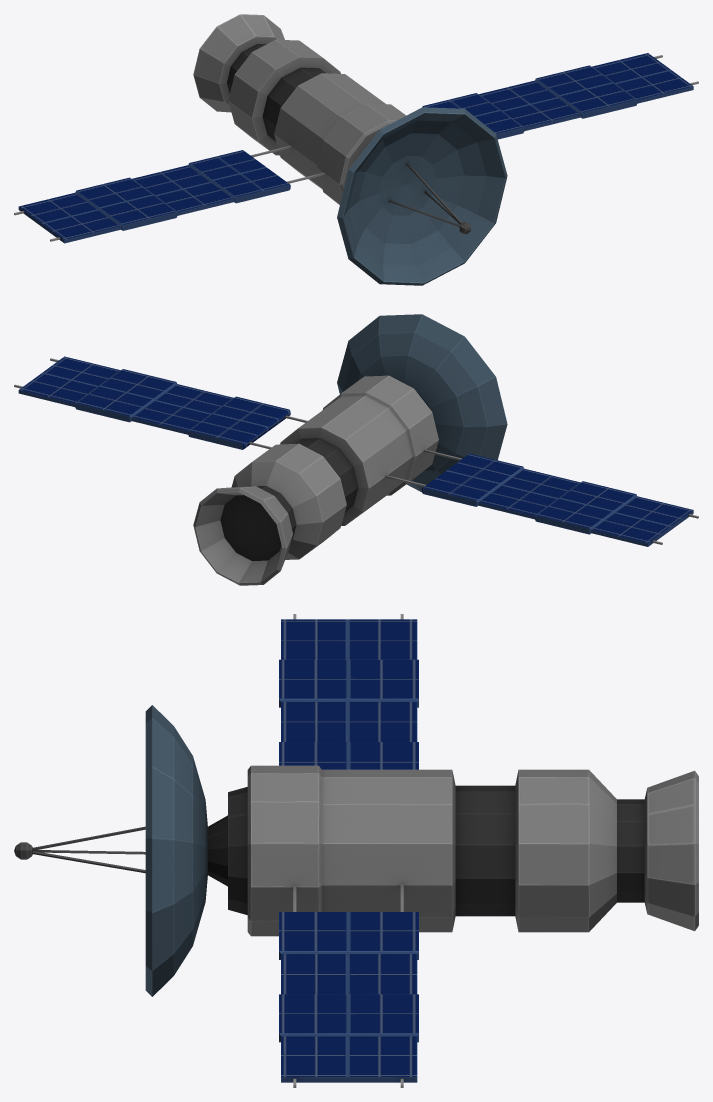
The model's file is satellite.glb.
3 views of the same model, one above another, from view 1: azimuth 30°, elevation 25°; view 2: azimuth 150°, elevation 25°; view 3: azimuth 270°, elevation 25° (orthographic). The views are drawn at different scales.
Visible parts, largest first — view 1: Object_2; view 2: Object_2; view 3: Object_2.
Part boxes in pixels (x1,y1,x2,y2): Object_2: (14, 14, 698, 285); Object_2: (14, 314, 698, 585); Object_2: (14, 614, 698, 1087).
Bounding box in the file's own units: 41.03 × 10.8 × 25.21.
Materials: 1 (1 with a texture image).
